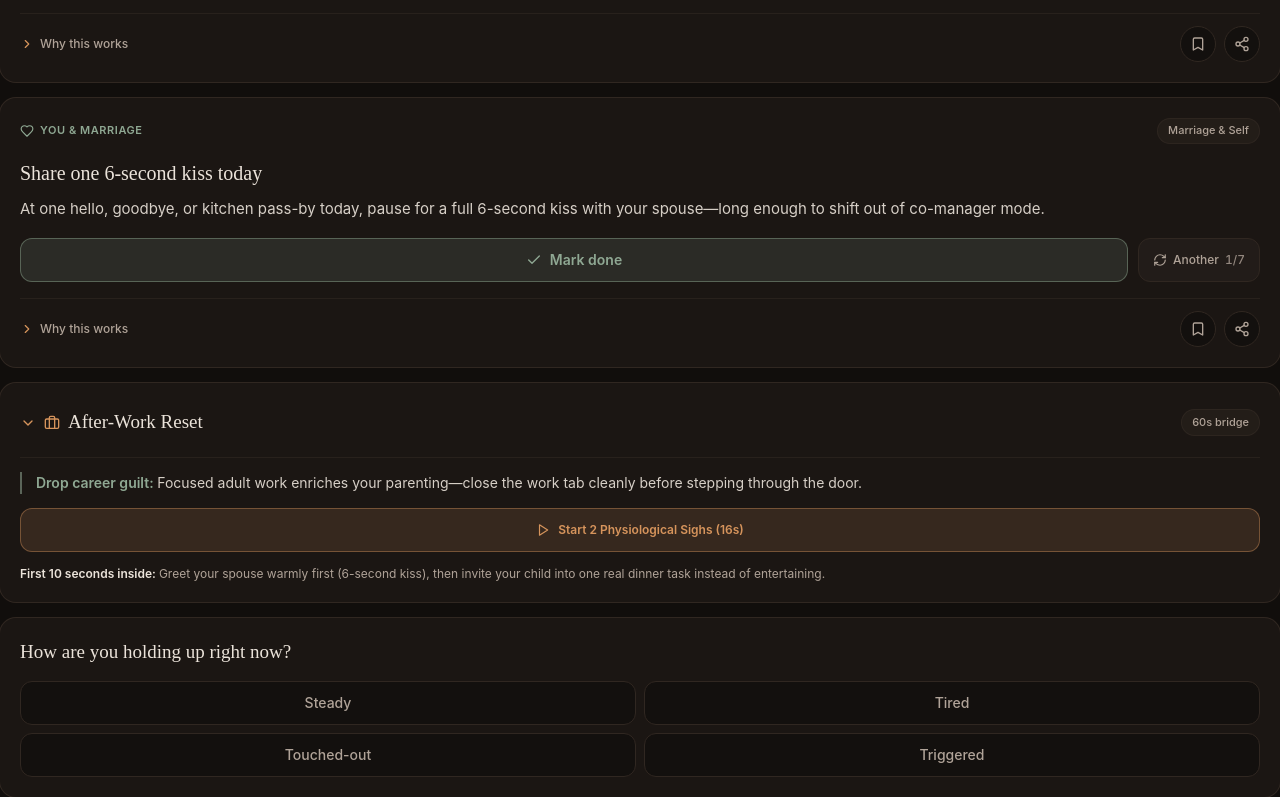
it: TodayView › auto-opens the 60-second After-Work Reset during 5:30 PM transition hours
(page scrolled)
Click the button "Start 2 Physiological Sighs (16s)": (640, 530) [20, 508, 1260, 552]
(page scrolled)
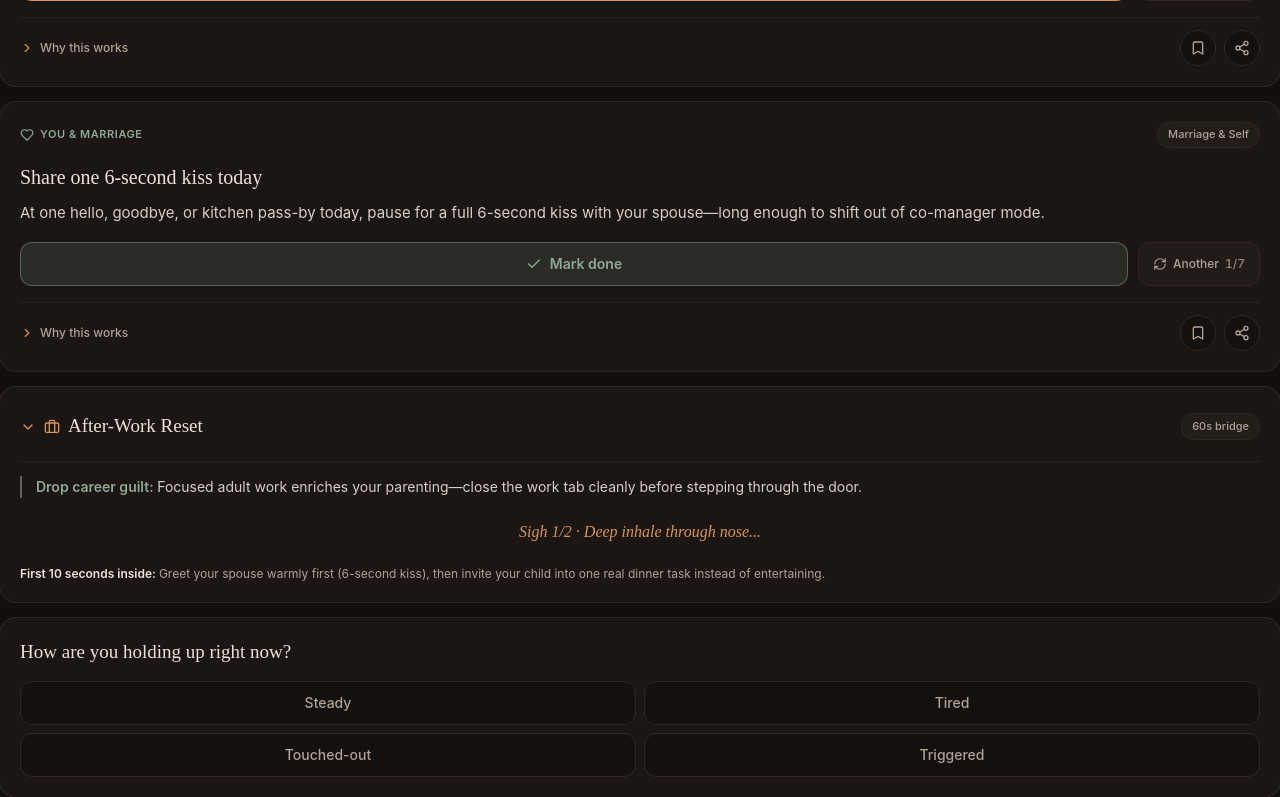
Now the text "Sigh 1/2 · Deep inhale through nose..." is shown, box [519, 523, 761, 540]
